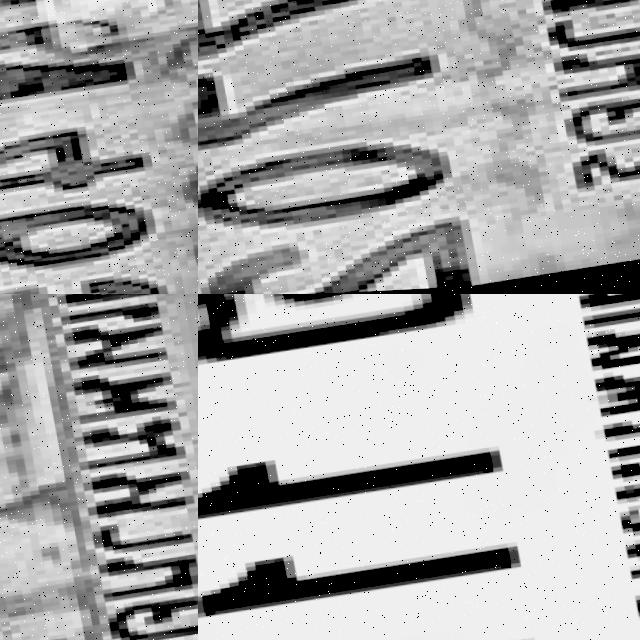license-plate: (198, 294, 640, 640), (198, 0, 640, 294), (0, 294, 198, 640), (0, 0, 198, 294)
